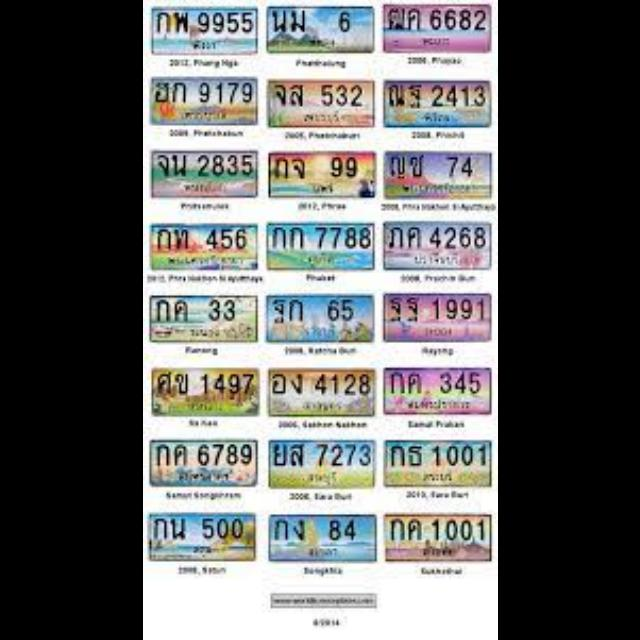licenseplate: (149, 368, 261, 418), (264, 4, 374, 54), (266, 150, 376, 200), (382, 513, 492, 563), (382, 2, 491, 52), (382, 293, 491, 343), (150, 6, 258, 56), (266, 78, 374, 128), (147, 512, 255, 562), (381, 222, 492, 270), (266, 368, 374, 417), (267, 439, 375, 488), (147, 77, 257, 125), (147, 295, 257, 343), (264, 296, 374, 344), (382, 440, 492, 488), (382, 80, 491, 128), (382, 151, 491, 199), (268, 514, 377, 562), (266, 222, 374, 270), (148, 439, 256, 486), (382, 368, 492, 414), (150, 152, 258, 198), (149, 225, 257, 271)
